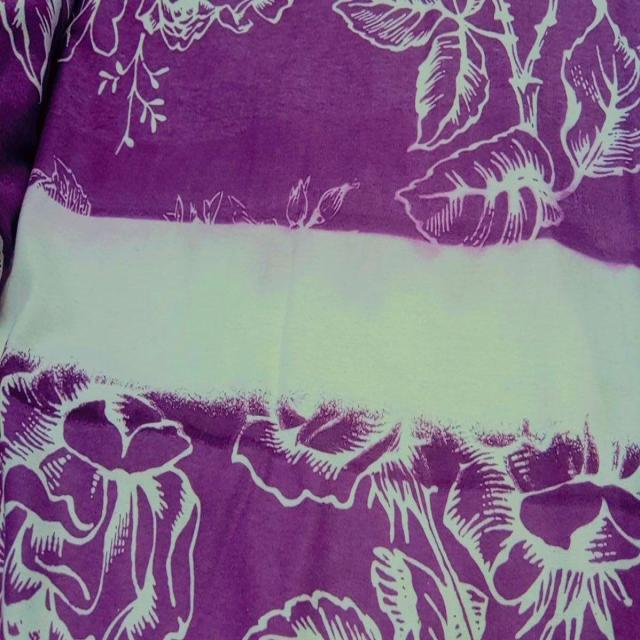baekra: (5, 174, 639, 458)
